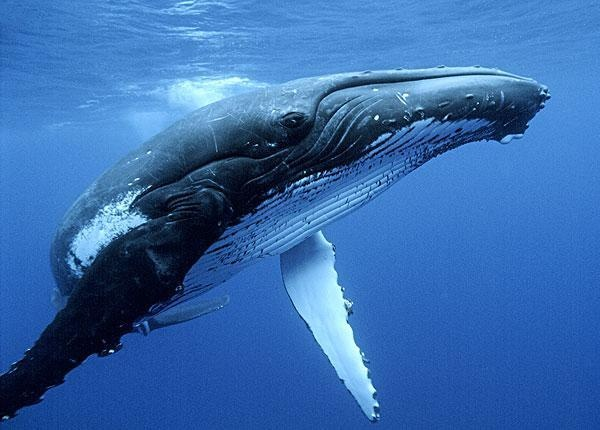fish: (13, 55, 551, 421)
